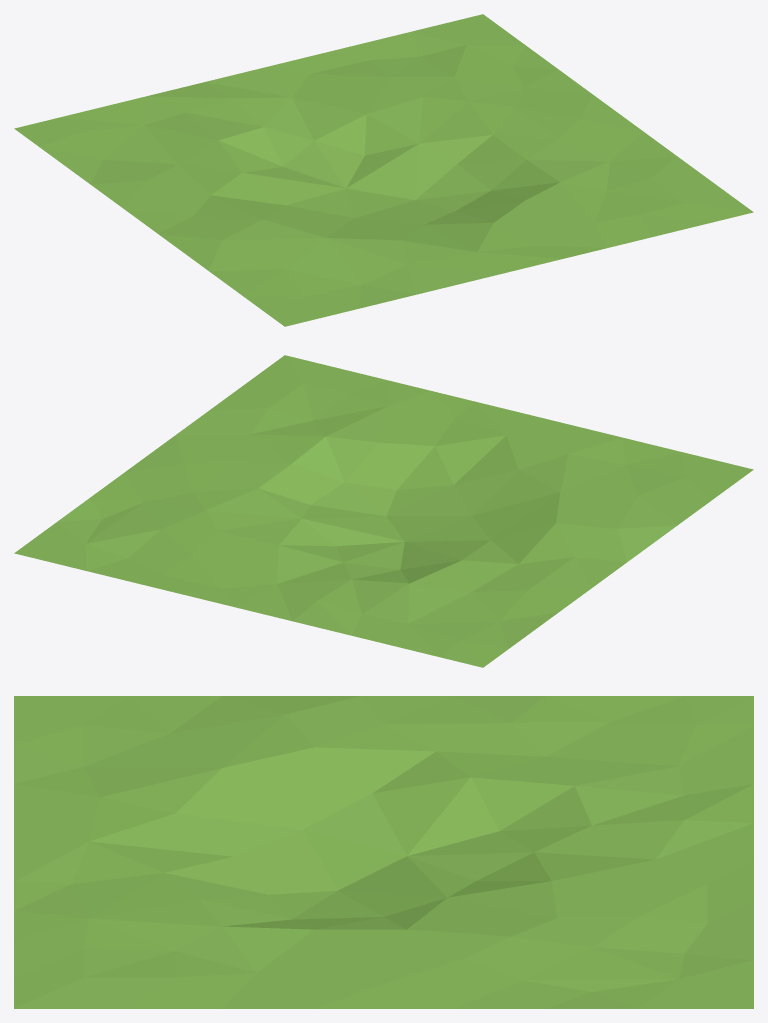
The model's file is MT_Terrain_S_b_02.fbx.
3 renders of one model, top to bottom at view 1: azimuth 30°, elevation 25°; view 2: azimuth 150°, elevation 25°; view 3: azimuth 270°, elevation 25°, orthographic. The views are drawn at different scales.
Parts seen in each view (by area): view 1: MT_Terrain_S_b_02; view 2: MT_Terrain_S_b_02; view 3: MT_Terrain_S_b_02.
Part boxes in pixels (<box>): MT_Terrain_S_b_02: <box>14,14,753,326</box>; MT_Terrain_S_b_02: <box>14,355,753,667</box>; MT_Terrain_S_b_02: <box>14,696,753,1008</box>.
Size of the model in its own units: 2500 by 134 by 2500.
